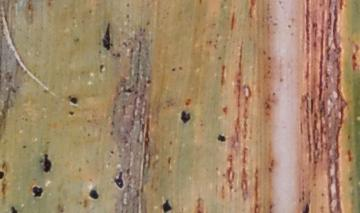tarspot: (98, 19, 115, 55), (36, 151, 55, 176), (110, 167, 126, 190), (28, 182, 46, 201), (178, 105, 193, 127), (84, 187, 103, 202), (65, 93, 82, 108), (158, 197, 172, 213), (214, 131, 227, 146), (300, 198, 313, 213), (8, 201, 18, 213), (1, 167, 6, 182)
